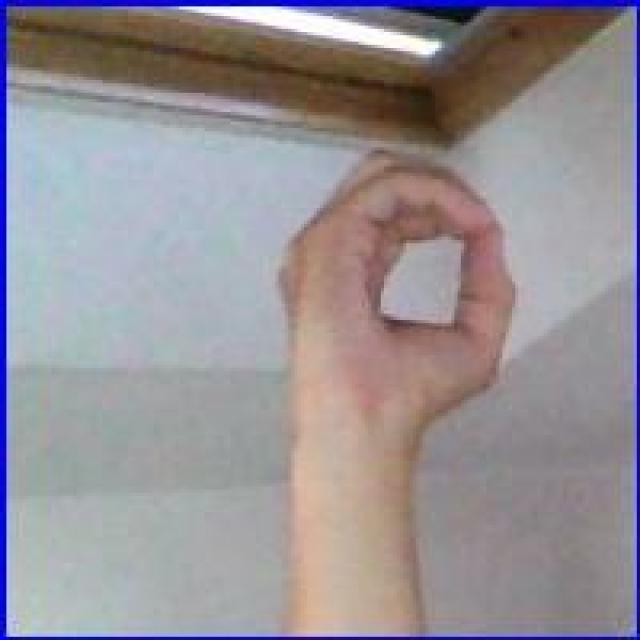O: (283, 142, 523, 472)
